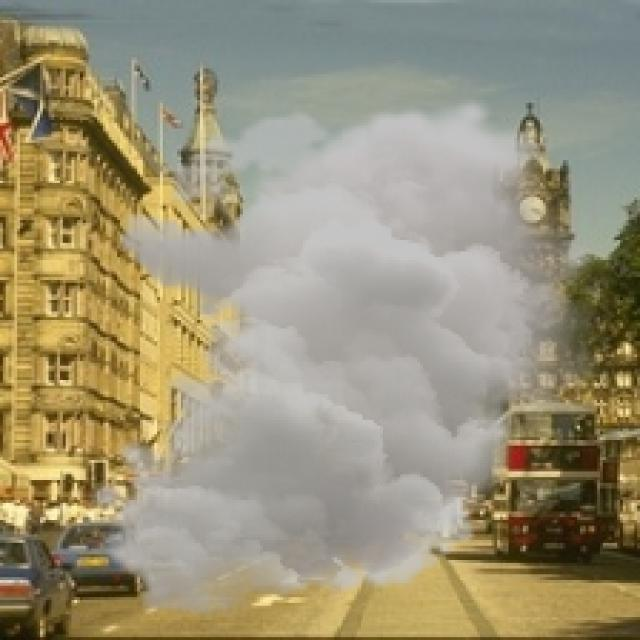Smoke: (82, 94, 614, 620)
